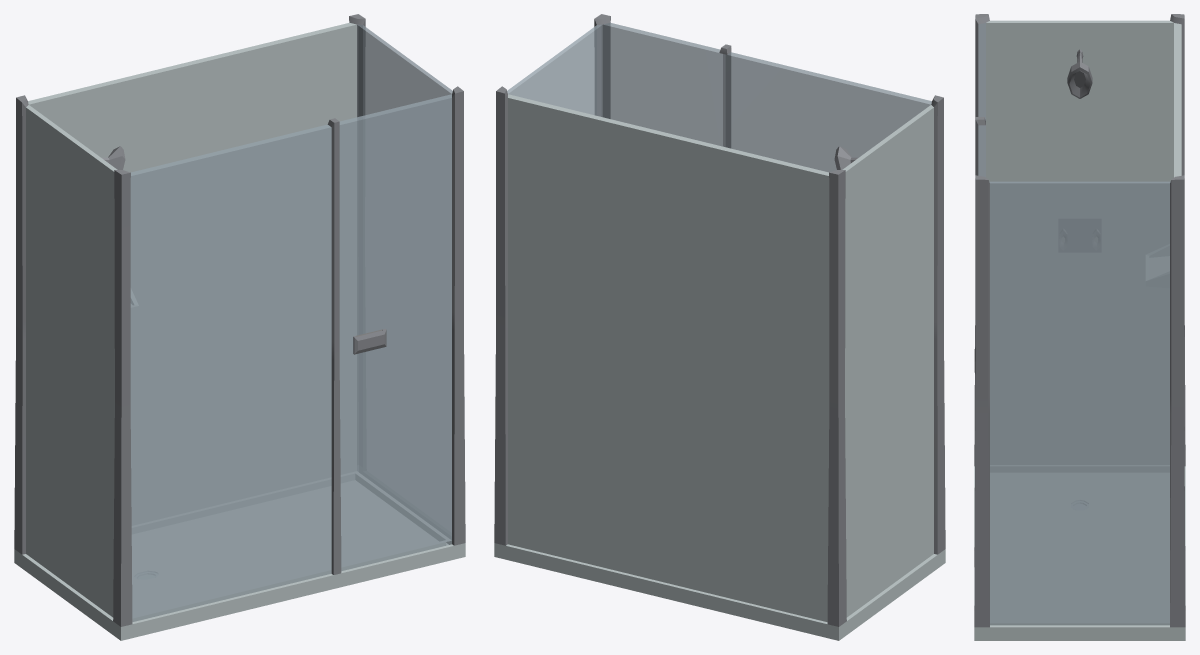
File: Shower.fbx
3 renders of one model, left to right at view 1: azimuth 30°, elevation 25°; view 2: azimuth 150°, elevation 25°; view 3: azimuth 270°, elevation 25°, orthographic.
Visible parts, largest first — view 1: pCube2; view 2: pCube2; view 3: pCube2.
Boxes of the visible parts, x1,y1,x2,y2 form: pCube2: (14,14,465,640); pCube2: (494,14,945,640); pCube2: (974,14,1185,640).
Bounding box in the file's own units: 117 × 150 × 62.46.
